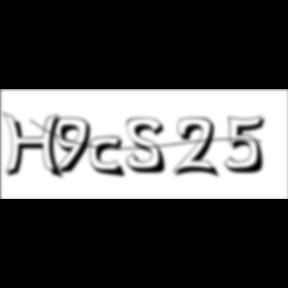2: (173, 117, 223, 181)
5: (225, 114, 272, 176)
9: (53, 117, 98, 177)
H: (2, 112, 68, 182)
S: (127, 117, 173, 176)
c: (90, 136, 130, 180)
